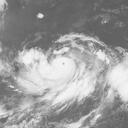cyclone: (33, 46, 91, 96)
